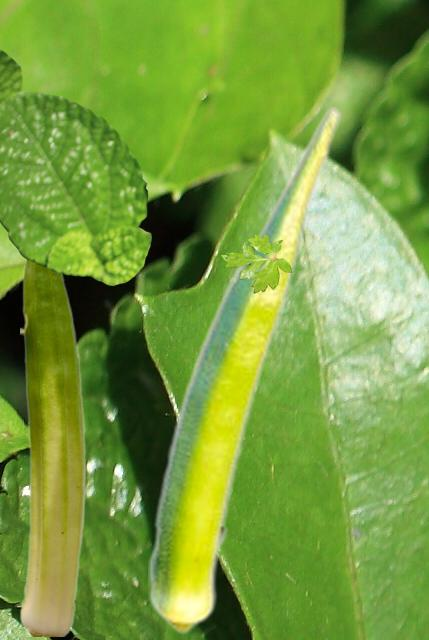okra: (148, 105, 341, 634), (20, 258, 85, 635)
